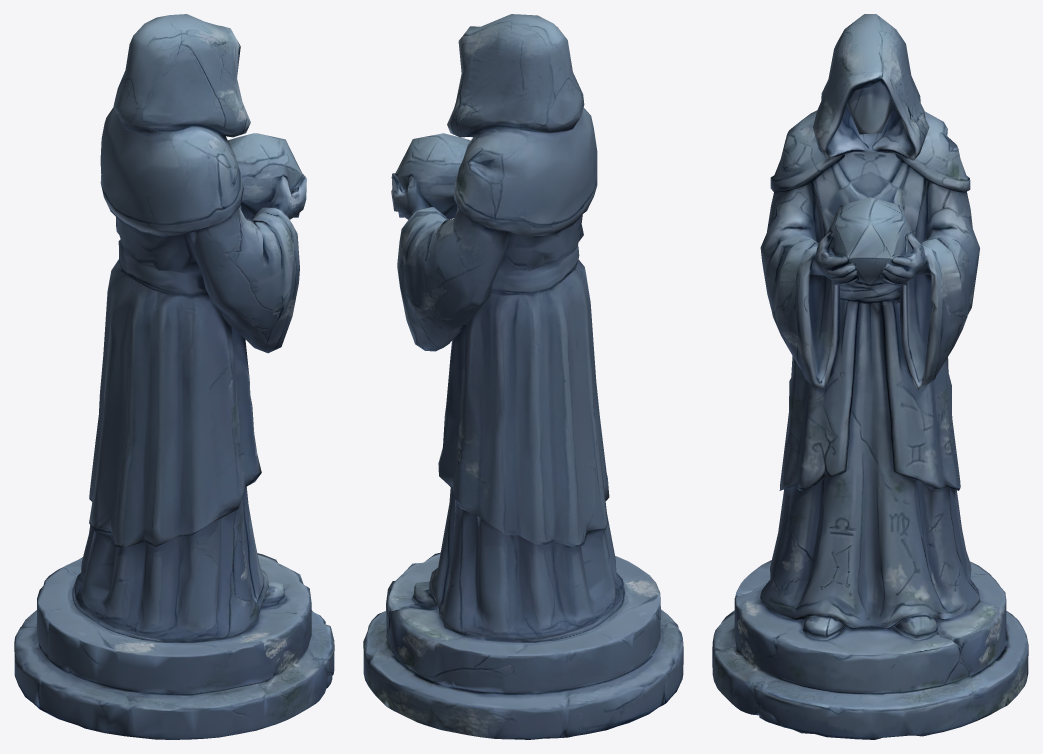
File: arena_statue.glb
3 renders of one model, left to right at view 1: azimuth 30°, elevation 25°; view 2: azimuth 150°, elevation 25°; view 3: azimuth 270°, elevation 25°, orthographic.
Parts seen in each view (by area): view 1: tripo_node_4e04c3e6-af60-43d9-aff2-910476b7f778; view 2: tripo_node_4e04c3e6-af60-43d9-aff2-910476b7f778; view 3: tripo_node_4e04c3e6-af60-43d9-aff2-910476b7f778.
Part boxes in pixels (bbox=[...]): tripo_node_4e04c3e6-af60-43d9-aff2-910476b7f778: bbox=[14, 14, 334, 739]; tripo_node_4e04c3e6-af60-43d9-aff2-910476b7f778: bbox=[363, 14, 683, 739]; tripo_node_4e04c3e6-af60-43d9-aff2-910476b7f778: bbox=[712, 14, 1028, 739].
Size of the model in its own units: 0.4426 by 1 by 0.4403.
1 material, 1 textured.
